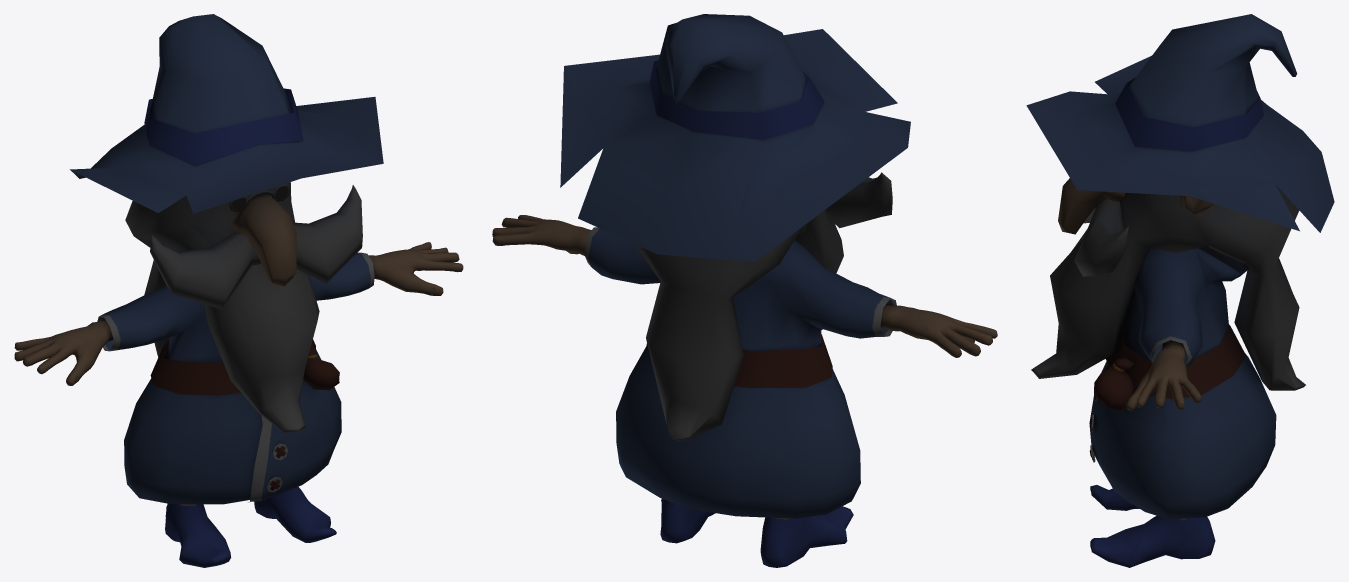
Rendered from MAGO.fbx.
3 views of the same model, side by side, from view 1: azimuth 30°, elevation 25°; view 2: azimuth 150°, elevation 25°; view 3: azimuth 270°, elevation 25° (orthographic). The views are drawn at different scales.
Parts seen in each view (by area): view 1: mago.000; view 2: mago.000; view 3: mago.000.
Boxes of the visible parts, box(x1,y1,x2,y2) form: mago.000: box(14, 14, 463, 567); mago.000: box(492, 14, 997, 567); mago.000: box(1026, 14, 1334, 567).
Bounding box in the file's own units: 135 × 145 × 78.77.
